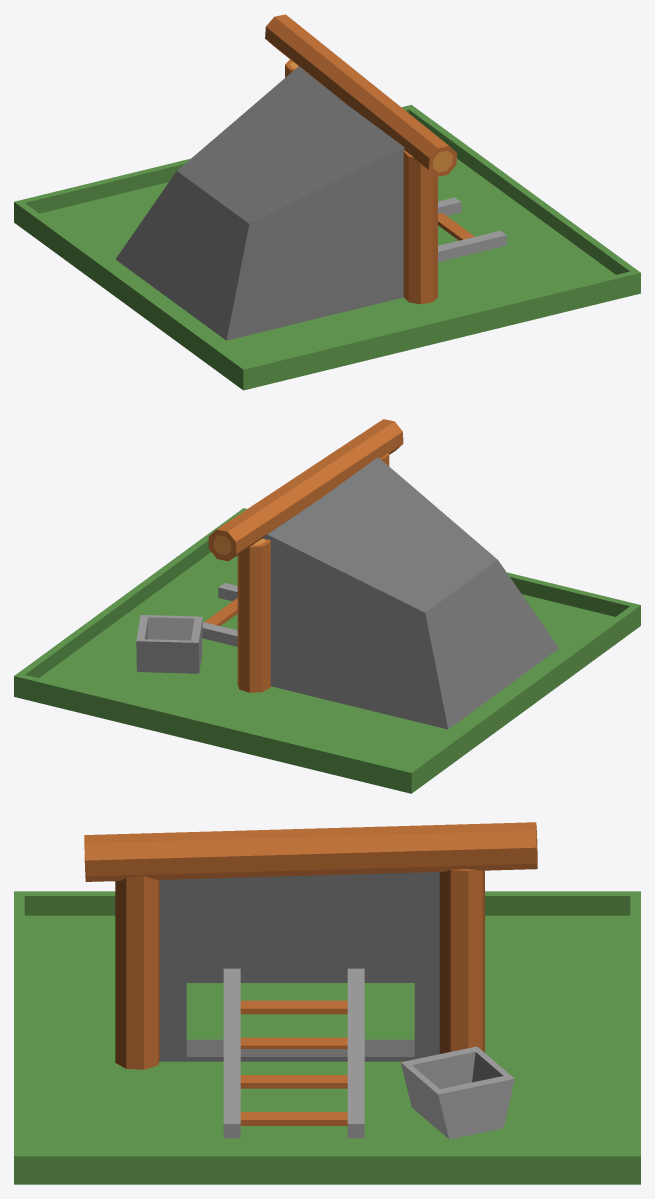
Rendered from mine.fbx.
The picture shows the model from 3 angles, top to bottom: view 1: azimuth 30°, elevation 25°; view 2: azimuth 150°, elevation 25°; view 3: azimuth 270°, elevation 25°; orthographic projection. The views are drawn at different scales.
Parts seen in each view (by area): view 1: Cube.021; view 2: Cube.021; view 3: Cube.021.
Part boxes in pixels (x1,y1,x2,y2): Cube.021: (14, 14, 640, 390); Cube.021: (14, 419, 640, 793); Cube.021: (14, 822, 640, 1184).
Bounding box in the file's own units: 2.88 × 2.88 × 1.3.
